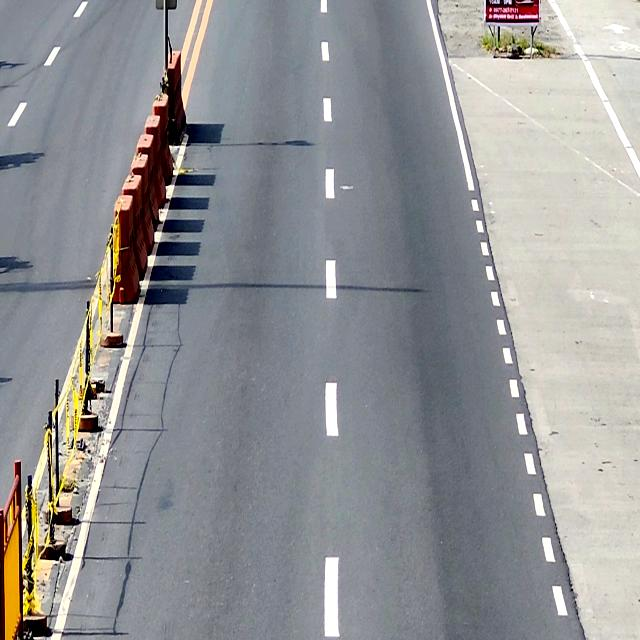E-bike: (11, 1, 586, 637)
